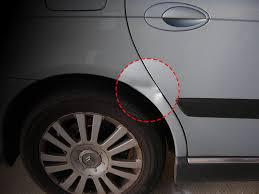quaterpanel-dent: (69, 30, 166, 116)
